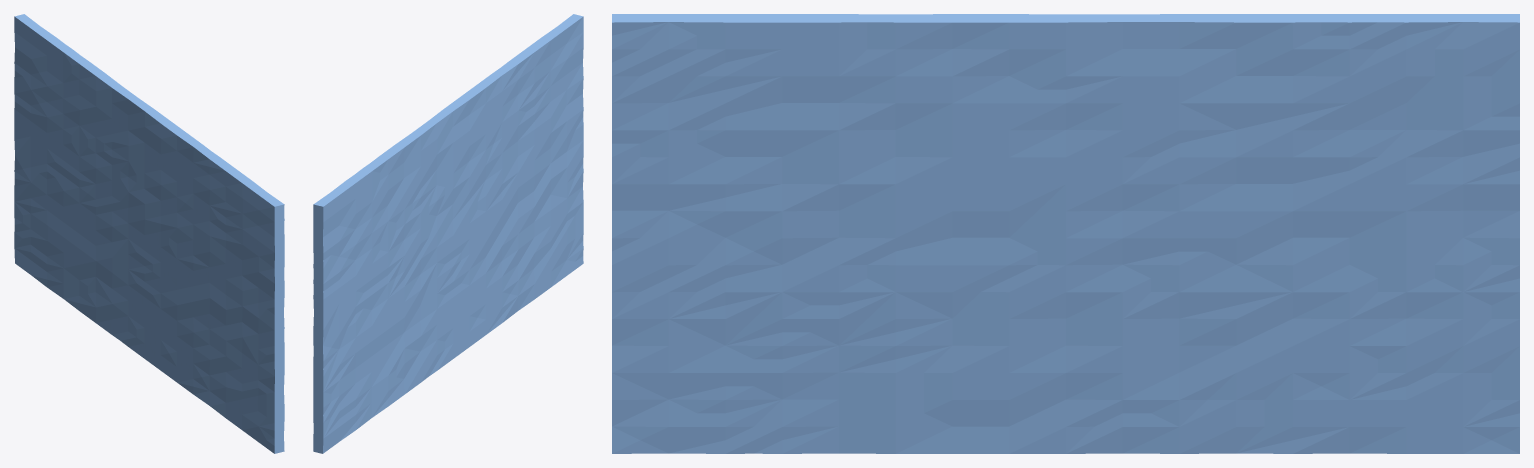
File: IceWall.fbx
3 views of the same model, side by side, from view 1: azimuth 30°, elevation 25°; view 2: azimuth 150°, elevation 25°; view 3: azimuth 270°, elevation 25° (orthographic). The views are drawn at different scales.
Visible parts, largest first — view 1: Cube; view 2: Cube; view 3: Cube.
Part boxes in pixels (<box>): Cube: <box>14,14,284,453</box>; Cube: <box>313,14,583,453</box>; Cube: <box>612,14,1519,453</box>.
Bounding box in the file's own units: 35.32 × 834 × 1591.
